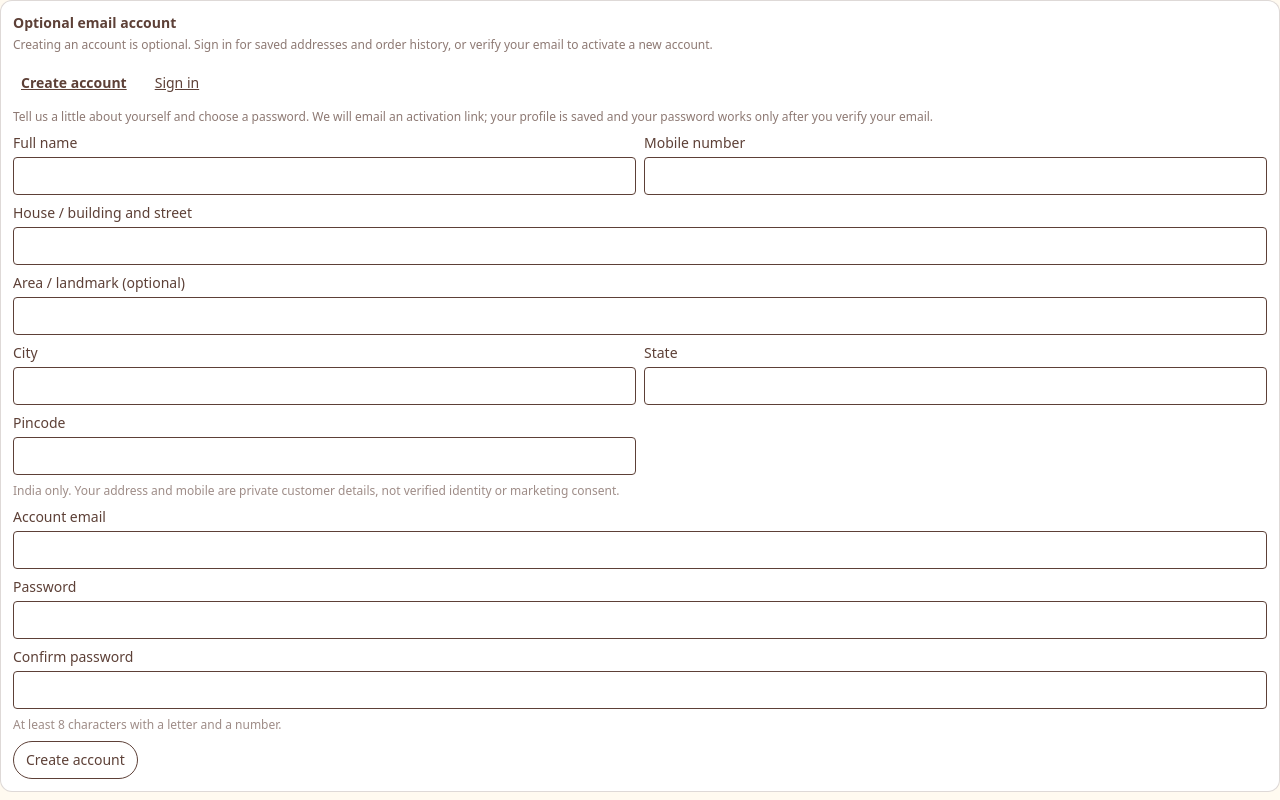
Test case: makes selecting sign-in visibly change the form and focus the email
Step 1. Click the button "Sign in" → (177, 83), box x1=147 y1=61 x2=207 y2=105
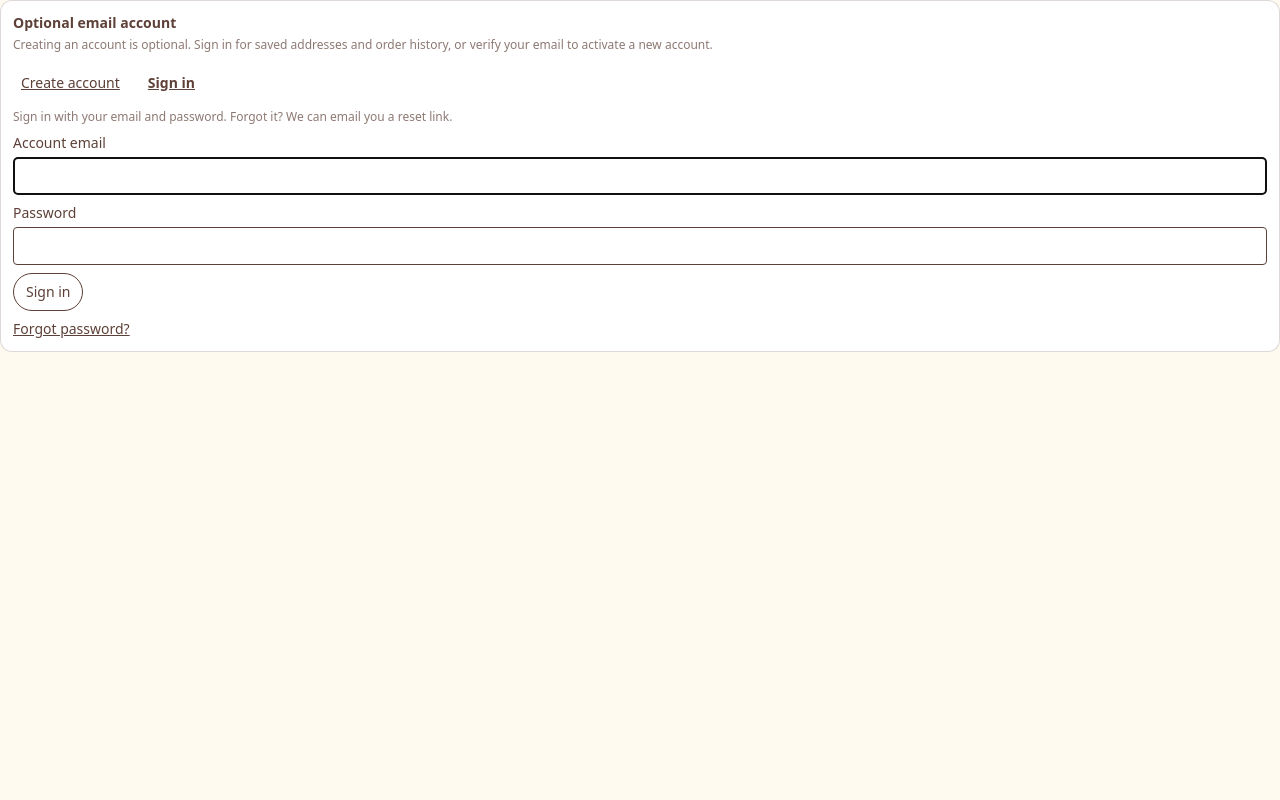
Expected: the label labelled "Confirm password" is gone
